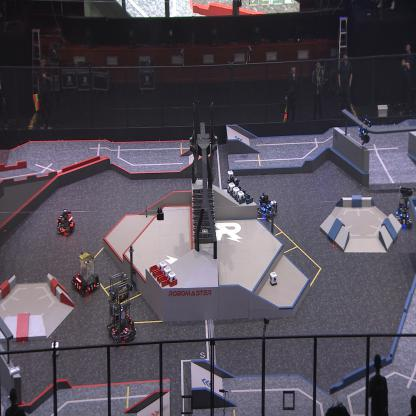car: (107, 272, 137, 344), (72, 251, 99, 296), (395, 184, 415, 226), (56, 207, 76, 237), (256, 192, 274, 222), (221, 174, 241, 200)
